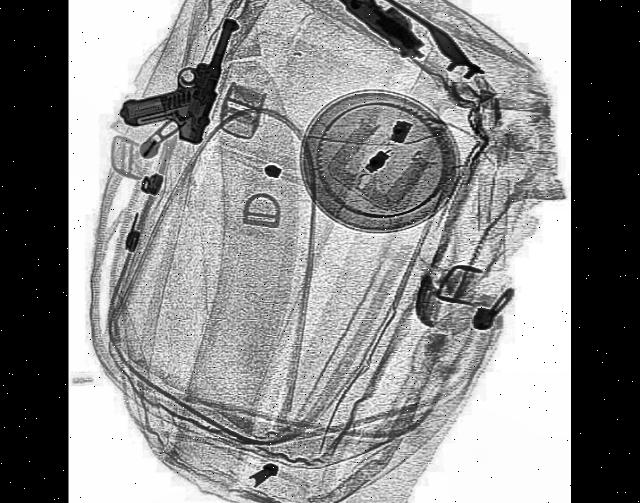Gun: (118, 0, 241, 168), (293, 0, 433, 70)
